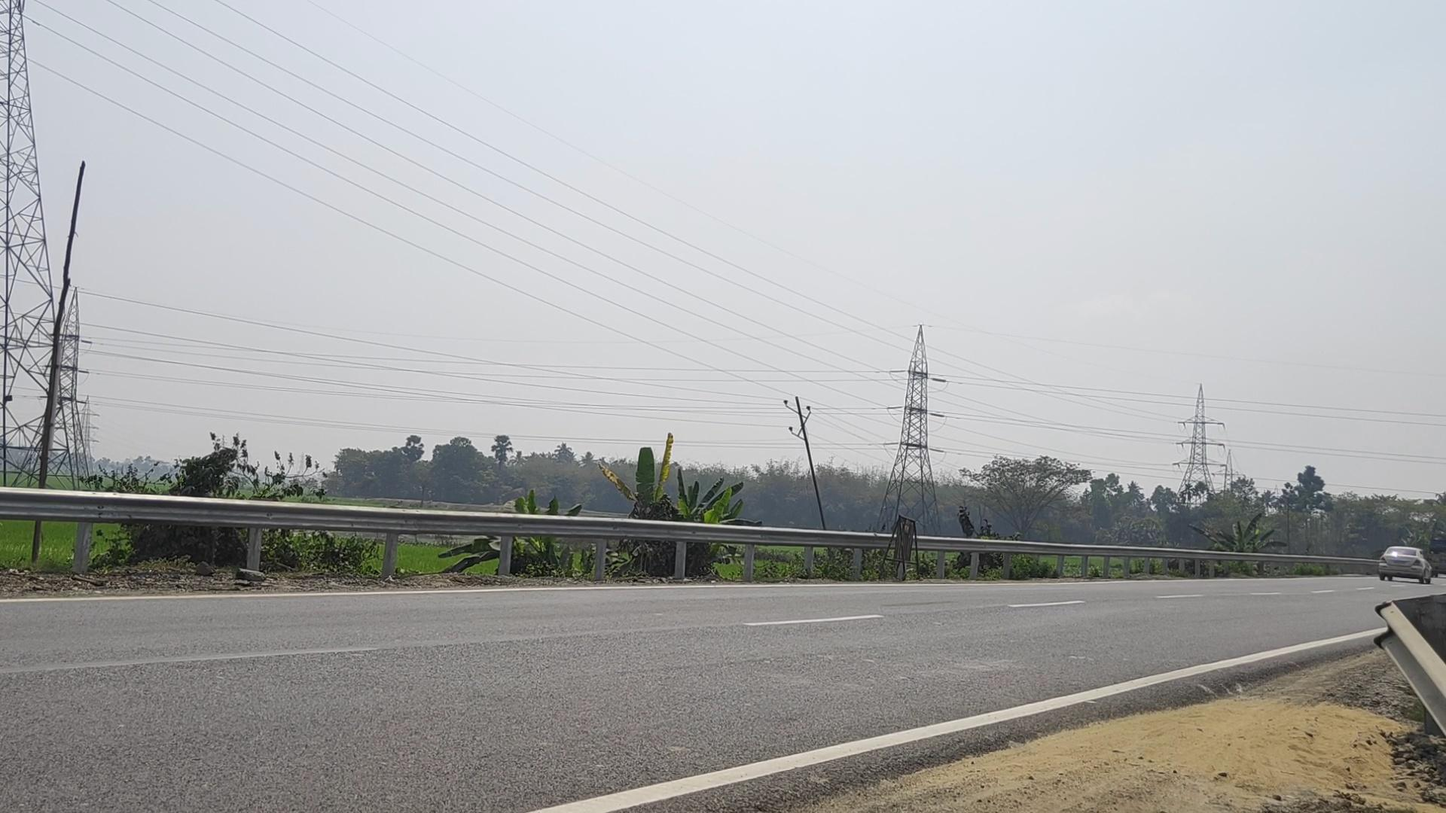car: (1378, 546, 1432, 584)
